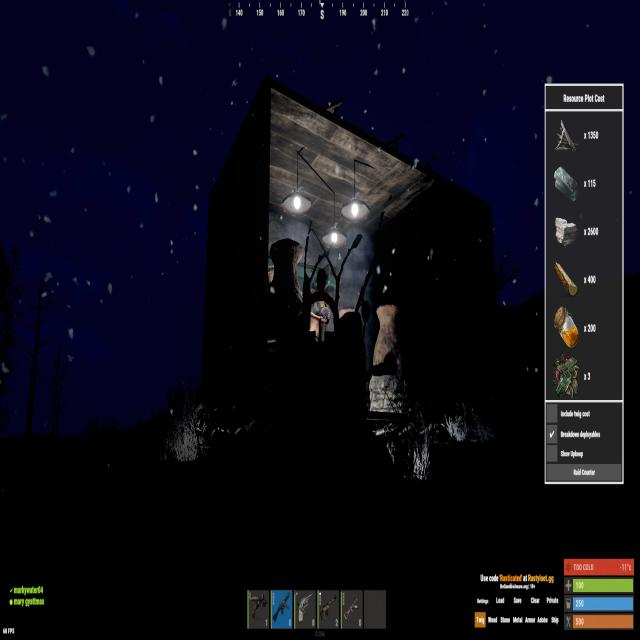Player: (308, 266, 330, 344)
